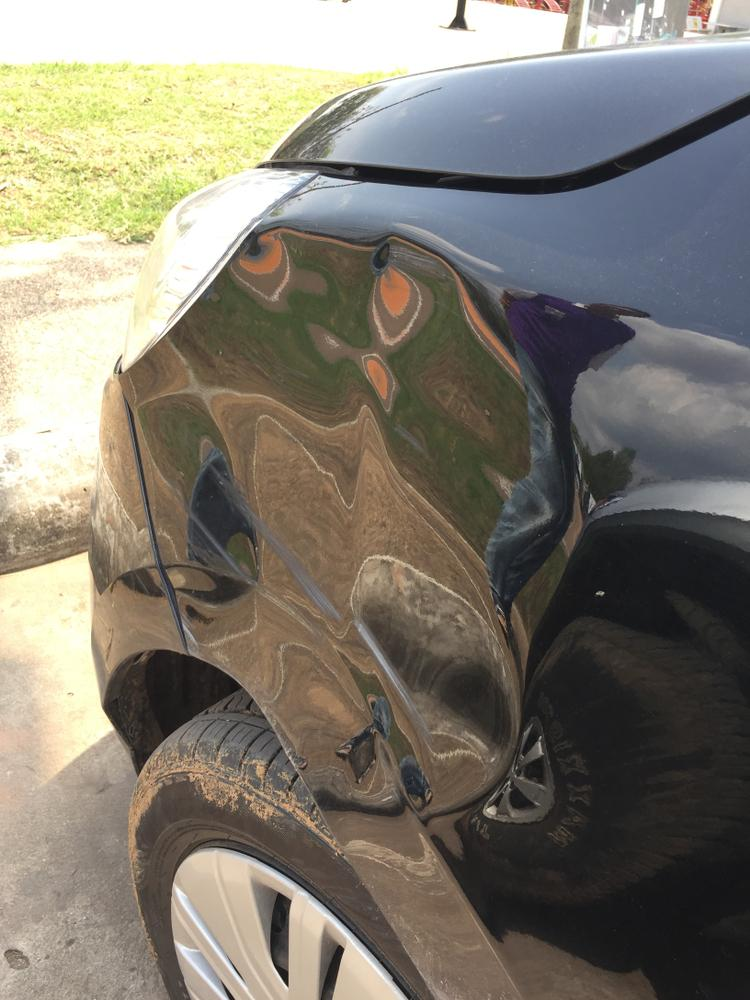dent: (123, 225, 581, 829)
